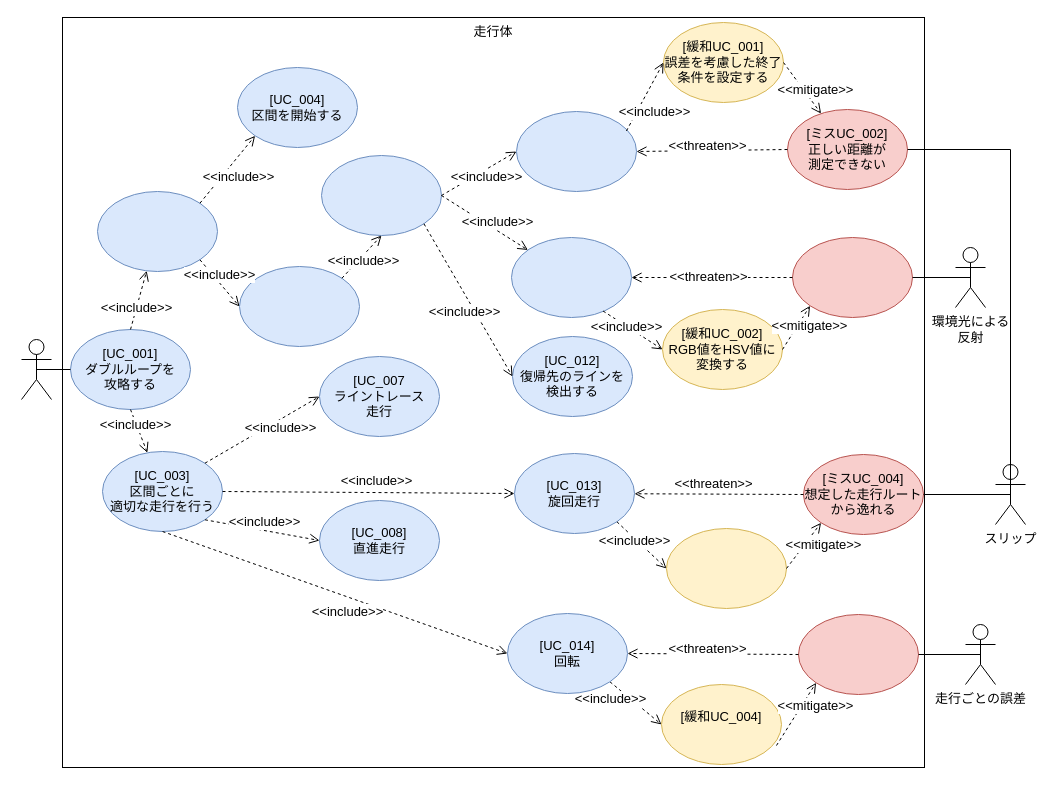
The diagram is 1054 pixels wide and 785 high, and some of its shapes have lost their labels. The shapes that lost their labels are listed below. From the top down, each one's centre as x and y in pixels, then its label:
(x=576, y=151): [UC_010] 走行距離を 判定する
(x=381, y=195): [UC_006] 区間の終了条件を 判定する
(x=157, y=231): [UC_002] 区間を切り替える
(x=571, y=277): [UC_011] ラインカラーを 判定する
(x=852, y=277): [ミスUC_003] 正しい色が 検出できない
(x=299, y=306): [UC_005] 区間を終了する
(x=36, y=369): 競技者
(x=726, y=568): [緩和UC_003] ライン検知時点で ライントレースに 切り替える
(x=858, y=654): [ミスUC_001] 回転開始時の 進行方向が 想定と異なる
